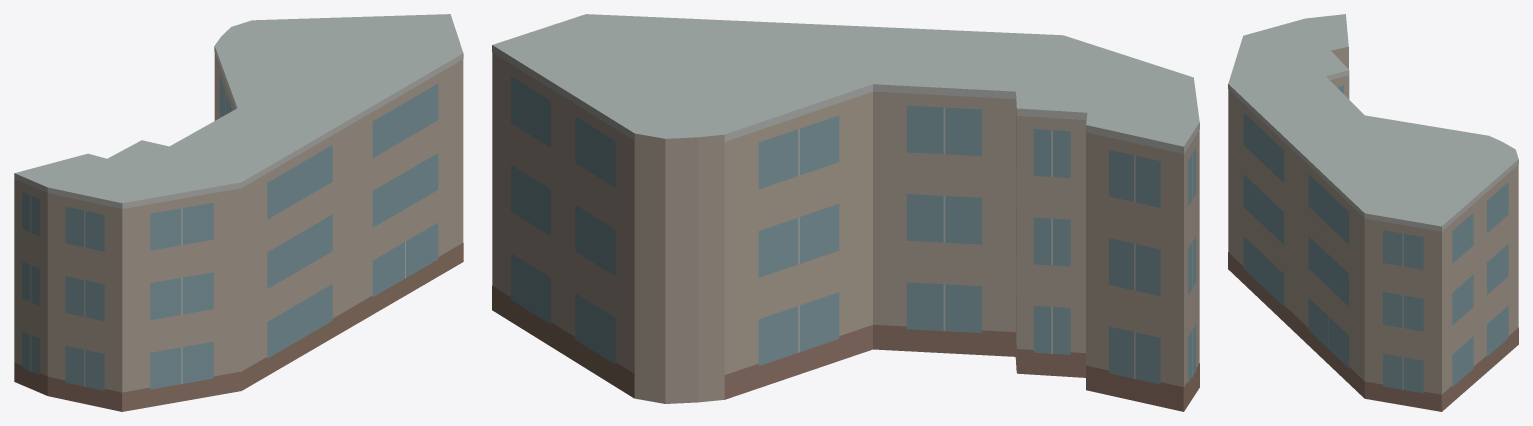
Rendered from survey-upis-32722303.glb.
The picture shows the model from 3 angles, left to right: view 1: azimuth 30°, elevation 25°; view 2: azimuth 150°, elevation 25°; view 3: azimuth 270°, elevation 25°; orthographic projection. The views are drawn at different scales.
Visible parts, largest first — view 1: survey-upis-32722303.tmp; view 2: survey-upis-32722303.tmp; view 3: survey-upis-32722303.tmp.
Boxes of the visible parts, box(x1,y1,x2,y2) form: survey-upis-32722303.tmp: box(14, 14, 463, 411); survey-upis-32722303.tmp: box(492, 14, 1199, 411); survey-upis-32722303.tmp: box(1228, 14, 1518, 411).
Bounding box in the file's own units: 21.52 × 8.75 × 12.44.
